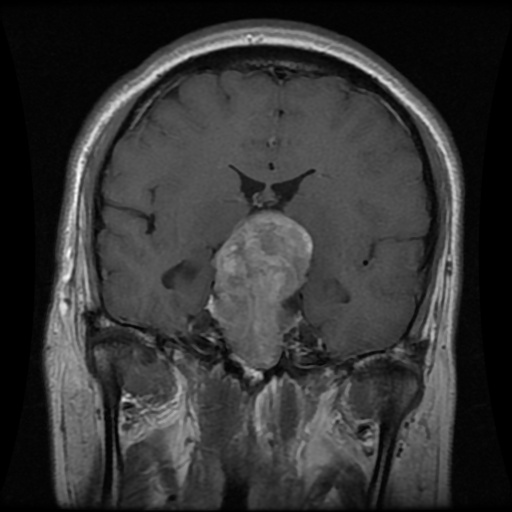pituitary: (211, 213, 313, 367)
